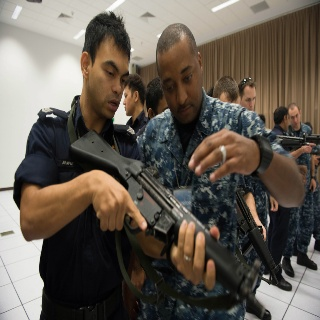rifle: (68, 128, 275, 320), (232, 188, 289, 289), (277, 132, 320, 149)
